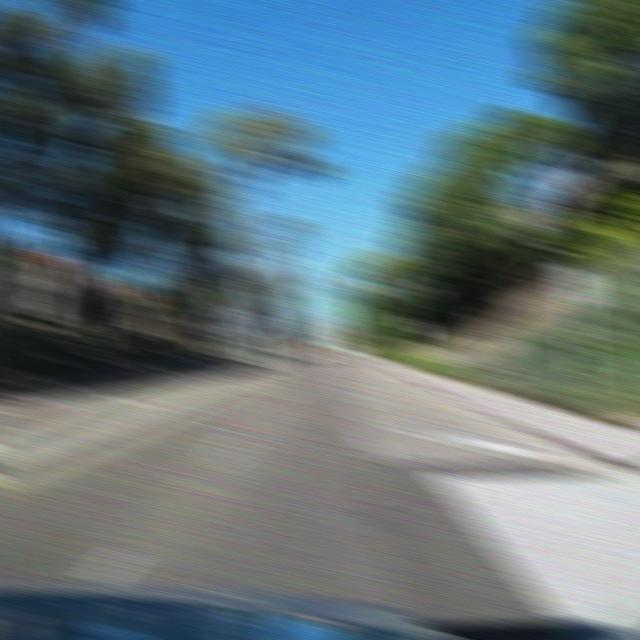speedLimit35: (555, 264, 595, 305)
